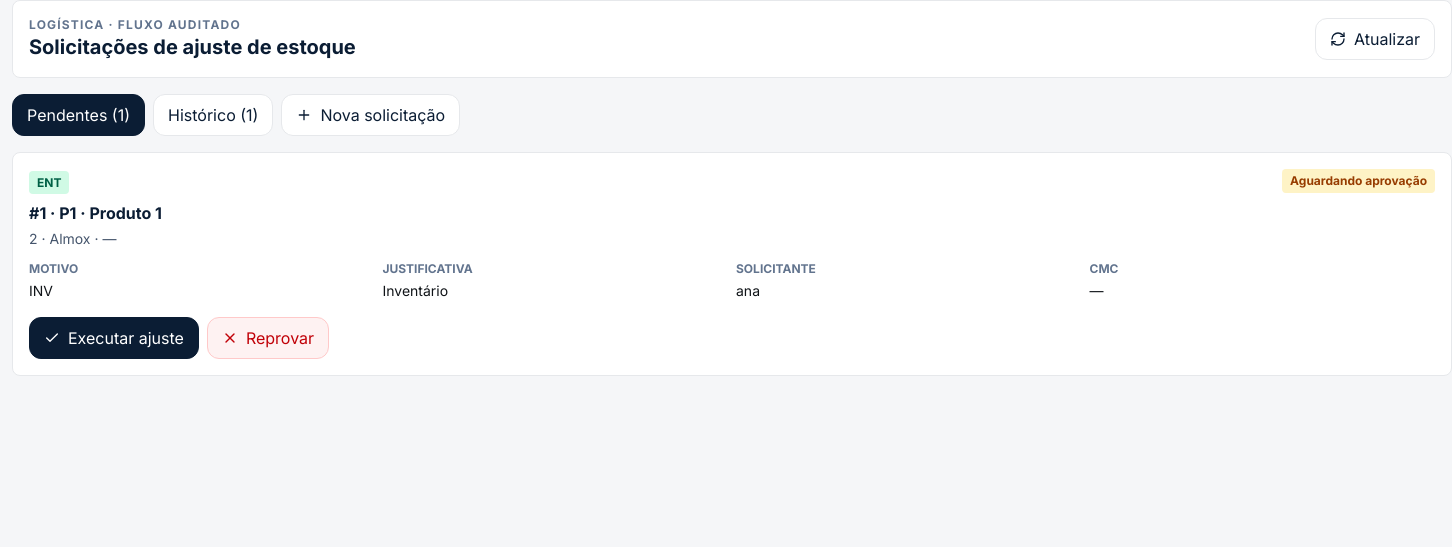
StockAdjustmentScreen › expõe histórico executado e formulário ENT/SAI
This screenshot has width=1452, height=547.
Click the button "Histórico (1)": point(213, 115) [153,94,273,136]
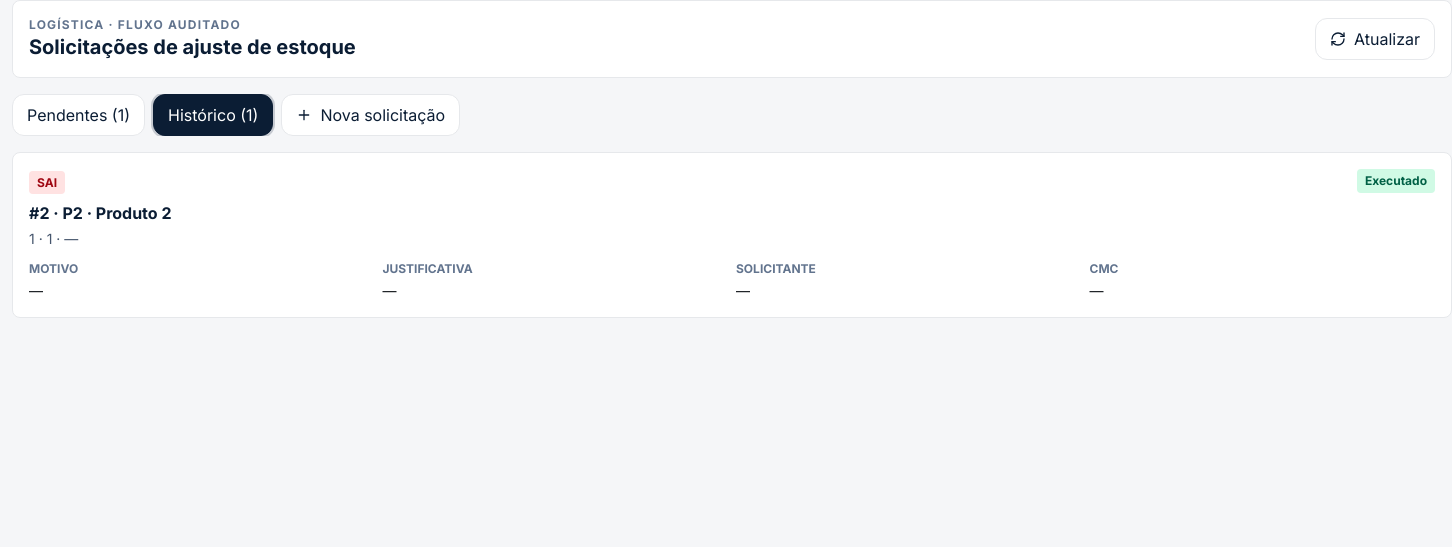
Check: the text "Executado" is shown, box [1357,169,1435,193]
Click the button "Nova solicitação": point(371, 115) [281,94,460,136]
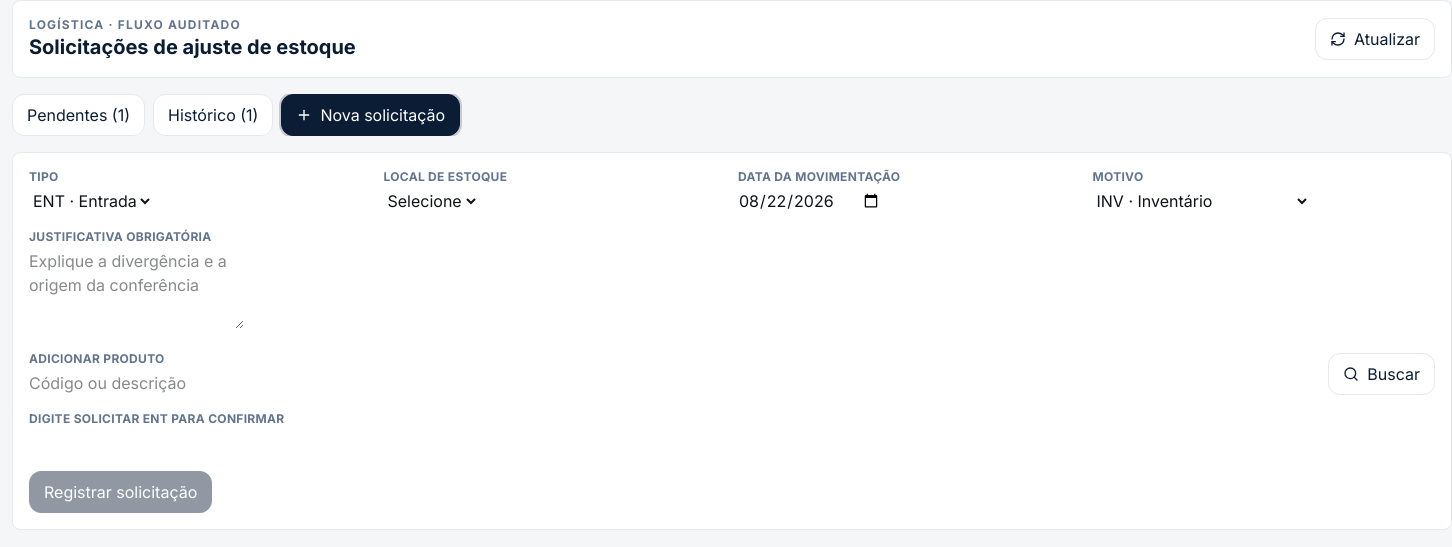
Check: the dropdown labelled "Tipo" shows "ENT · Entrada", box [29,190,153,212]
Check: the text "Digite SOLICITAR ENT para confirmar" is shown, box [29,411,284,426]
